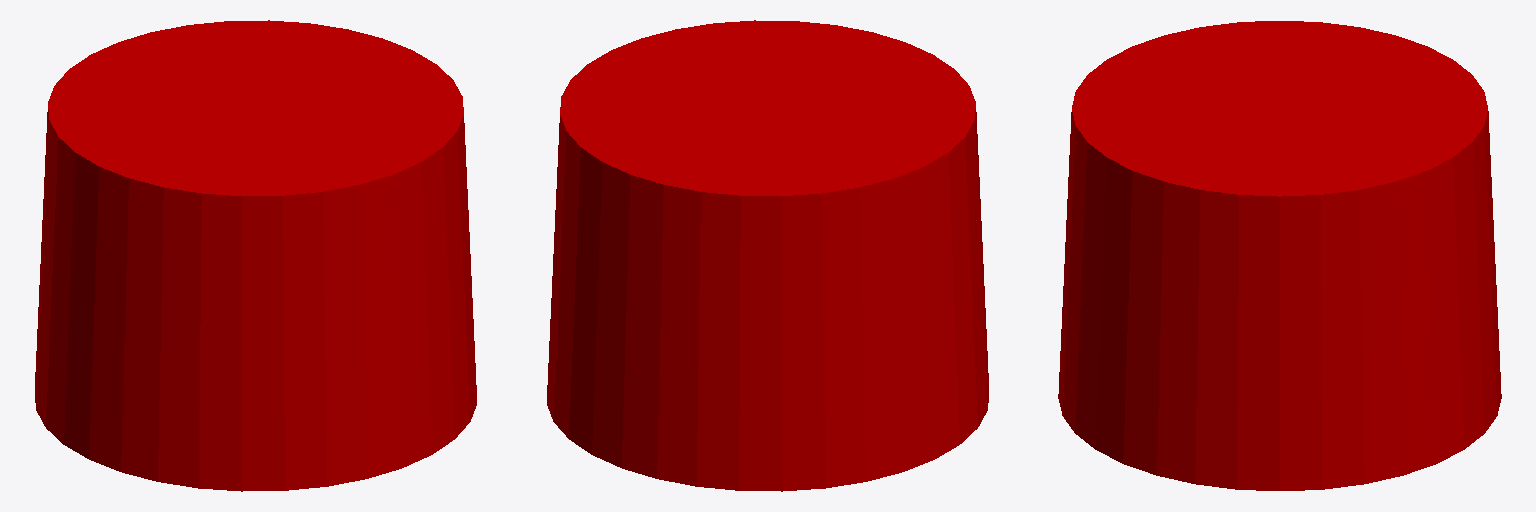
URDF robot description (green_cylinder):
<?xml version="1.0"?>
<robot name="green_cylinder">
<link name="green_cylinder">
    <visual>
      <geometry>
        <mesh filename="package://laas_objects/res/obj/green_cylinder.obj"/>
      </geometry>
      <origin rpy="1.57075 0 0" xyz="0 0 0"/>
      <material name="green">
        <color rgba=".8 0 0 1"/>
      </material>
    </visual>
    <collision>
      <geometry>
        <mesh filename="package://laas_objects/res/obj/green_cylinder.obj"/>
      </geometry>
      <origin rpy="1.57075 0 0" xyz="0 0 0"/>
      <contact_coefficients mu="1000.0" kp="0.00" kd="0.0"/>
    </collision>
    <inertial>
      <mass value="0.15"/>
      <inertia ixx="0.000378125" ixy="0.0" ixz="0.0" iyy="0.000378125" iyz="0.0" izz="0.000378125"/>
    </inertial>
</link>
</robot>

--- Render facts (derived) ---
The picture shows the robot from 3 angles, left to right: view 1: azimuth 30°, elevation 25°; view 2: azimuth 150°, elevation 25°; view 3: azimuth 270°, elevation 25°; orthographic projection.
Model green_cylinder with 1 links and 0 joints (none), rooted at green_cylinder, posed every joint at zero.
Links seen in each view (by area): view 1: green_cylinder; view 2: green_cylinder; view 3: green_cylinder.
Link boxes in pixels (x1,y1,x2,y2): green_cylinder: (35, 20, 476, 491); green_cylinder: (547, 20, 988, 491); green_cylinder: (1058, 21, 1501, 490).
Bounding box of the posed robot: 0.0901 × 0.0901 × 0.0649 m (x, y, z).
1 mesh visuals loaded from 1 distinct referenced files (1 OBJ).